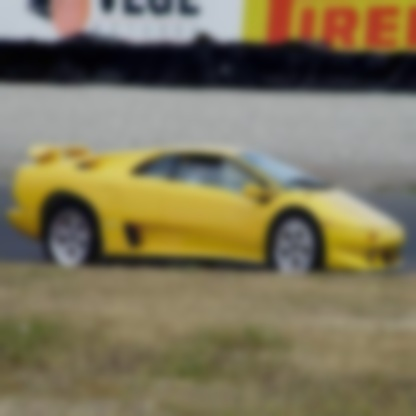Vehicle: (5, 142, 405, 271)
